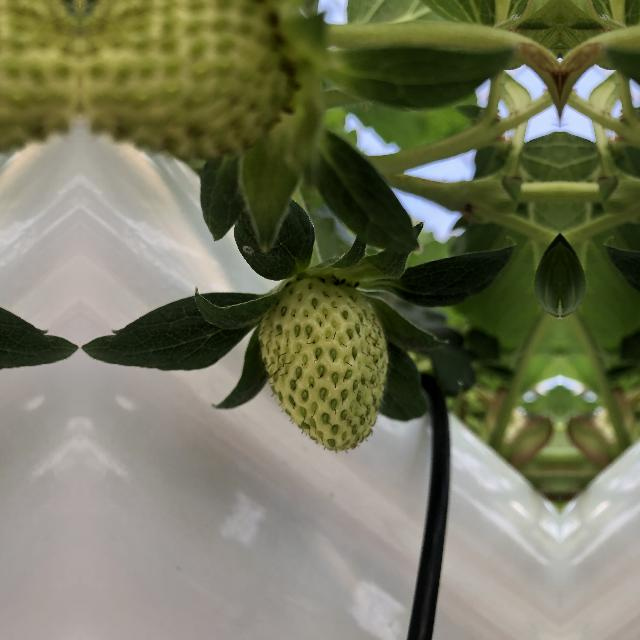Health_25: (257, 274, 398, 456)
